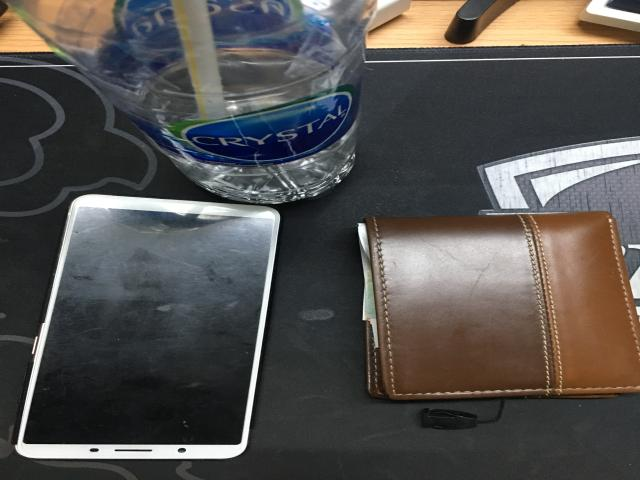Mobile phone: (15, 195, 280, 459)
Wallet: (365, 212, 638, 400)
bottle: (8, 0, 375, 203)
